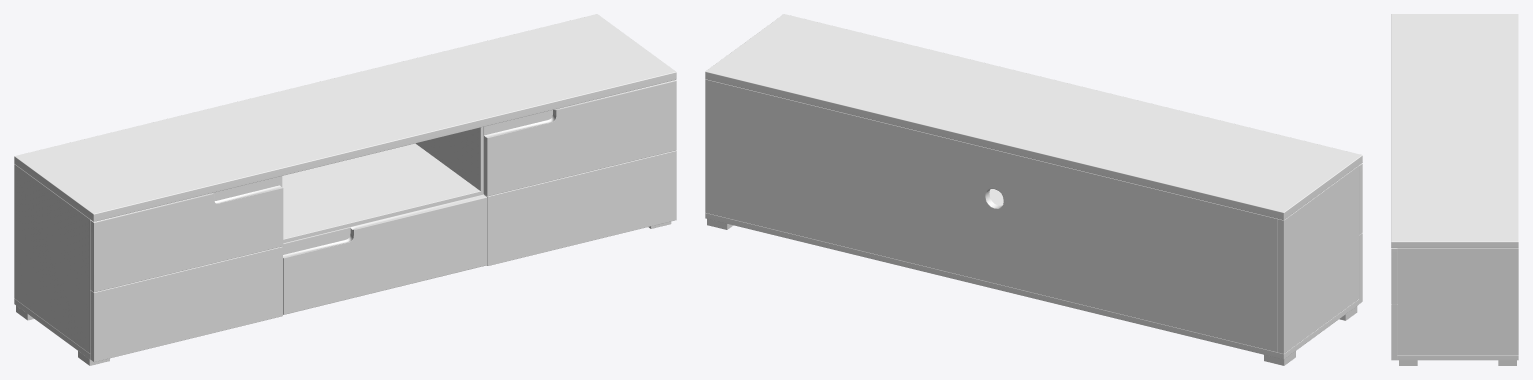
Rendered from abo-B07JGZP163.glb.
The picture shows the model from 3 angles, left to right: view 1: azimuth 30°, elevation 25°; view 2: azimuth 150°, elevation 25°; view 3: azimuth 270°, elevation 25°; orthographic projection. The views are drawn at different scales.
Size of the model in its own units: 1.65 by 0.42 by 0.39.
Materials: 1 (1 with a texture image).
